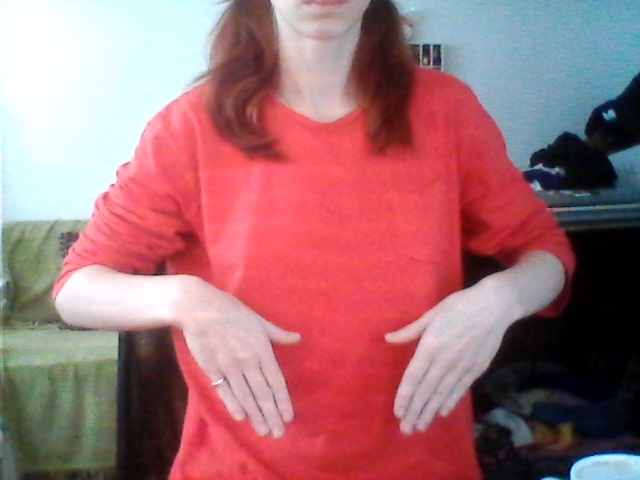zena: (163, 253, 497, 446)
